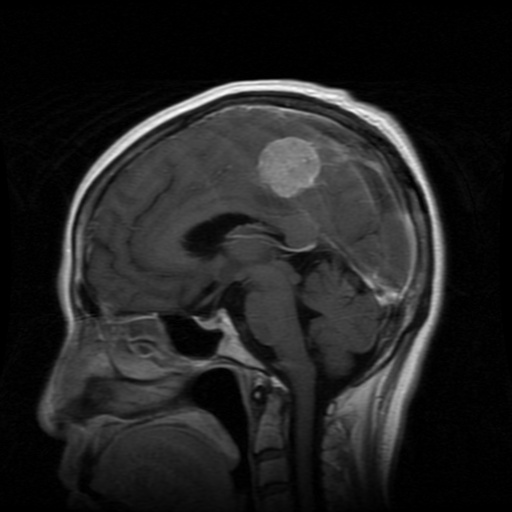meningioma: (257, 136, 320, 198)
